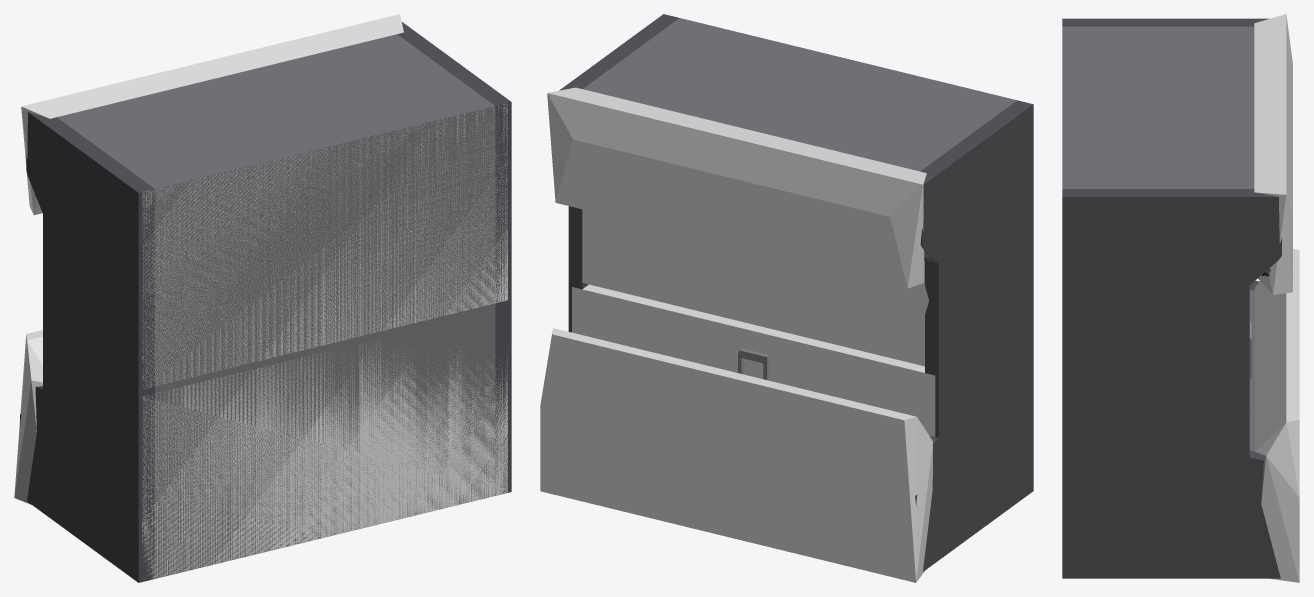
Rendered from SM_Bld_Wall_Mechanical_01.fbx.
3 views of the same model, side by side, from view 1: azimuth 30°, elevation 25°; view 2: azimuth 150°, elevation 25°; view 3: azimuth 270°, elevation 25° (orthographic). The views are drawn at different scales.
Visible parts, largest first — view 1: SM_Bld_Wall_Mechanical_01_LOD0, SM_Bld_Wall_Mechanical_01_ConvexHulls; view 2: SM_Bld_Wall_Mechanical_01_ConvexHulls, SM_Bld_Wall_Mechanical_01_LOD0; view 3: SM_Bld_Wall_Mechanical_01_LOD0, SM_Bld_Wall_Mechanical_01_ConvexHulls.
Part boxes in pixels (box(x1,y1,x2,y2)): SM_Bld_Wall_Mechanical_01_LOD0: box(20, 22, 511, 582); SM_Bld_Wall_Mechanical_01_ConvexHulls: box(14, 14, 507, 579); SM_Bld_Wall_Mechanical_01_ConvexHulls: box(540, 87, 935, 582); SM_Bld_Wall_Mechanical_01_LOD0: box(559, 14, 1033, 571); SM_Bld_Wall_Mechanical_01_LOD0: box(1062, 18, 1281, 578); SM_Bld_Wall_Mechanical_01_ConvexHulls: box(1254, 14, 1299, 582).
Size of the model in its own units: 282 by 508 by 508.
Materials: 1 (1 with a texture image).
